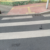zebra: (1, 17, 50, 39)
